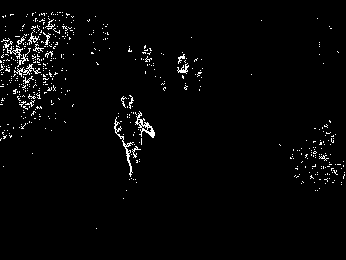person: (111, 91, 157, 180), (176, 51, 191, 93)
